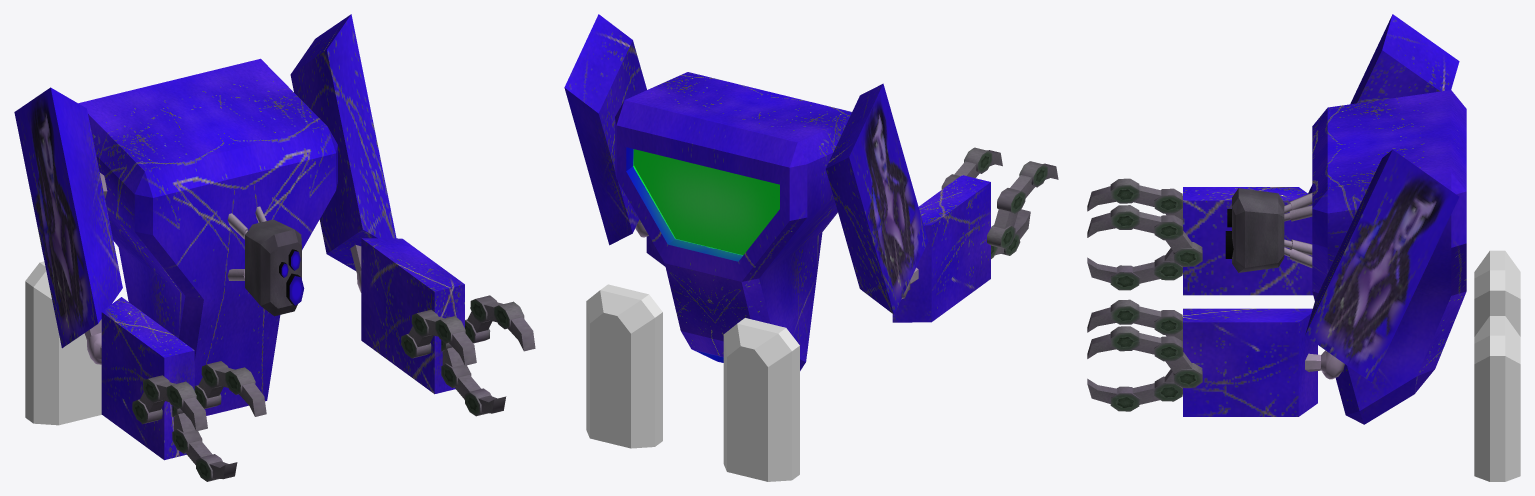
The model's file is Melee_bot.FBX.
The picture shows the model from 3 angles, left to right: view 1: azimuth 30°, elevation 25°; view 2: azimuth 150°, elevation 25°; view 3: azimuth 270°, elevation 25°; orthographic projection. The views are drawn at different scales.
Parts seen in each view (by area): view 1: Body, Jetpack; view 2: Body, Jetpack, Jetpack001; view 3: Body, Jetpack001, Jetpack.
Boxes of the visible parts, box(x1,y1,x2,y2) form: Body: box(14, 14, 535, 481); Jetpack: box(25, 261, 101, 425); Body: box(564, 14, 1058, 370); Jetpack: box(723, 318, 799, 481); Jetpack001: box(586, 284, 662, 448); Body: box(1087, 14, 1466, 424); Jetpack001: box(1474, 316, 1520, 481); Jetpack: box(1474, 250, 1520, 336).
Size of the model in its own units: 236 by 253 by 281.
Materials: 1 (1 with a texture image).
